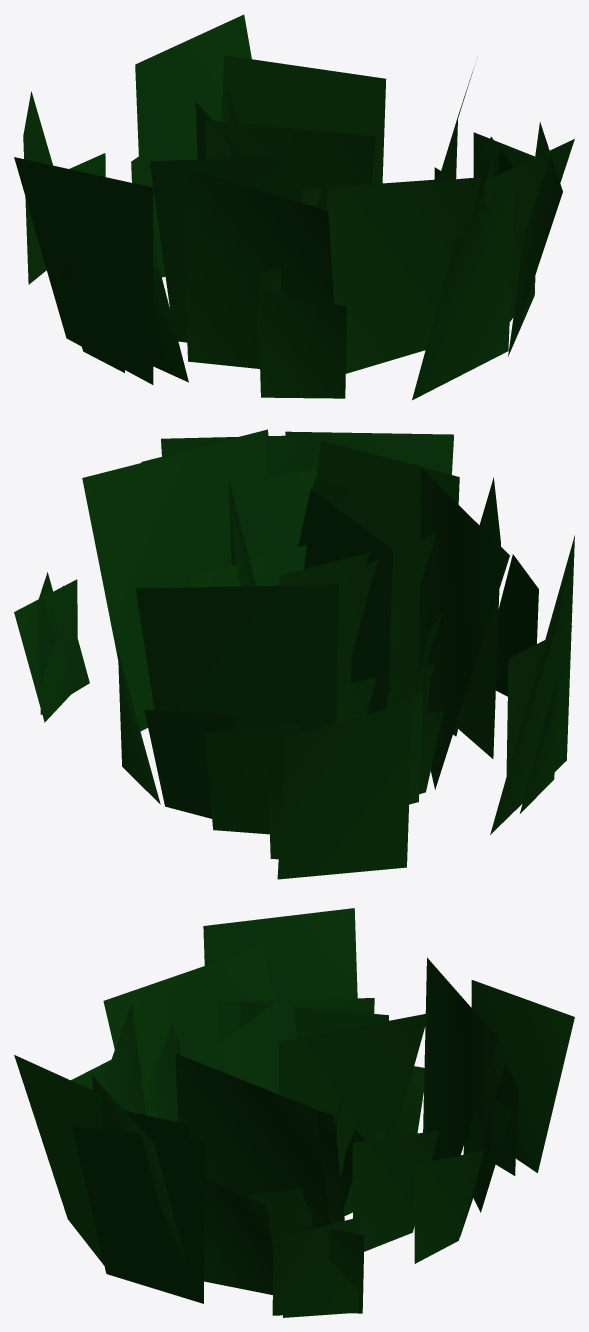
The model's file is grass_02.fbx.
3 views of the same model, one above another, from view 1: azimuth 30°, elevation 25°; view 2: azimuth 150°, elevation 25°; view 3: azimuth 270°, elevation 25° (orthographic). The views are drawn at different scales.
Visible parts, largest first — view 1: Grass_B_Low_Dense; view 2: Grass_B_Low_Dense; view 3: Grass_B_Low_Dense.
Part boxes in pixels (x1=…): Grass_B_Low_Dense: x1=14, y1=14, x2=574, y2=400; Grass_B_Low_Dense: x1=14, y1=429, x2=574, y2=879; Grass_B_Low_Dense: x1=14, y1=908, x2=574, y2=1317.
Size of the model in its own units: 56.98 by 24.89 by 57.73.
